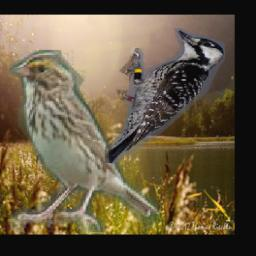Sparrow: (10, 50, 159, 234)
Woodpecker: (105, 29, 225, 164)
